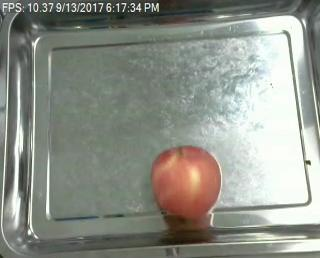apple: (149, 145, 221, 220)
